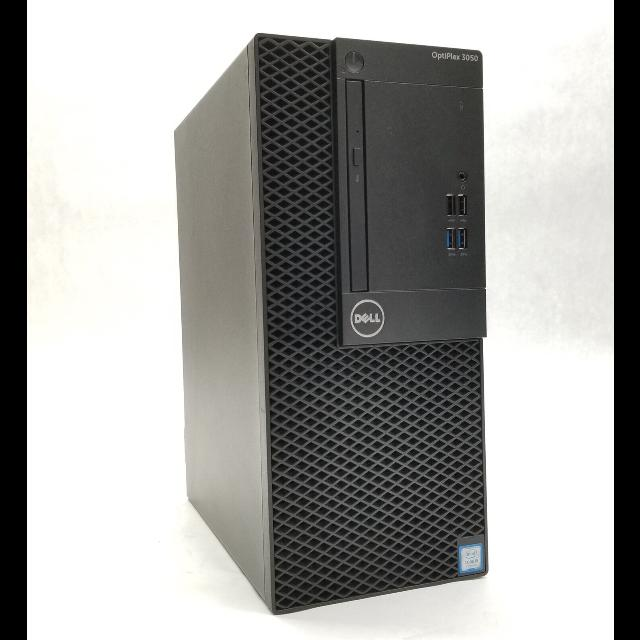Desktop-PC: (168, 18, 494, 622)
